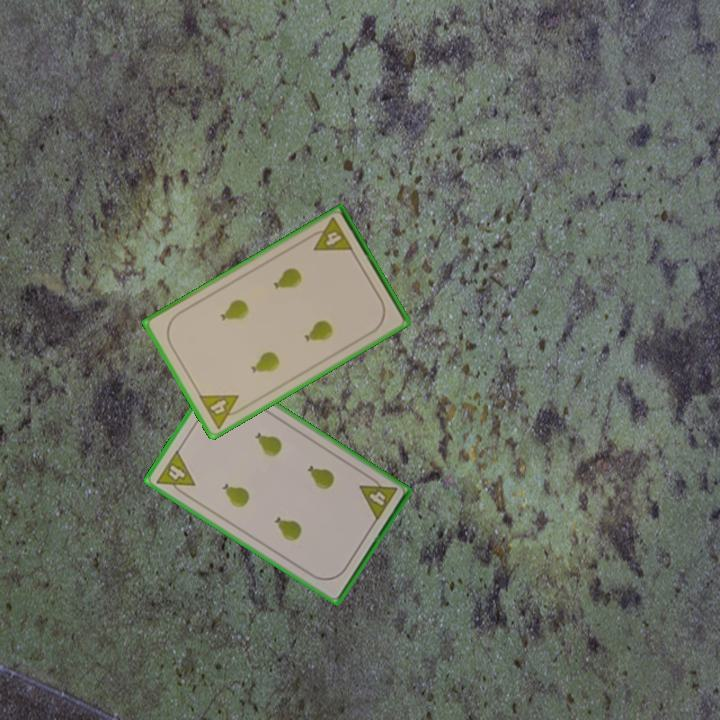4p: (153, 446, 198, 500), (356, 471, 400, 524), (195, 391, 248, 432), (304, 214, 356, 254)
